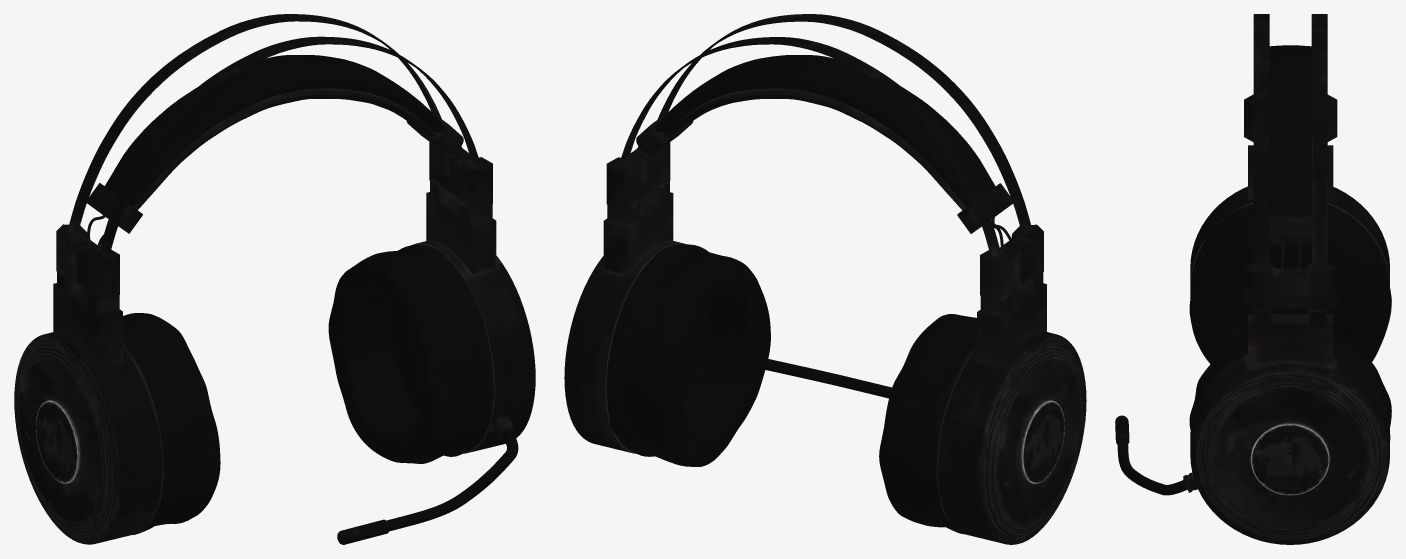
Rendered from hush-core-wired.glb.
3 views of the same model, side by side, from view 1: azimuth 30°, elevation 25°; view 2: azimuth 150°, elevation 25°; view 3: azimuth 270°, elevation 25° (orthographic). The views are drawn at different scales.
Visible parts, largest first — view 1: Orient; view 2: Orient; view 3: Orient.
Part boxes in pixels (left/top/right/bottom): Orient: left=14, top=14, right=535, bottom=544; Orient: left=564, top=14, right=1086, bottom=544; Orient: left=1115, top=14, right=1391, bottom=544.
Bounding box in the file's own units: 0.2359 × 0.2347 × 0.1398.
1 material, 1 textured.
